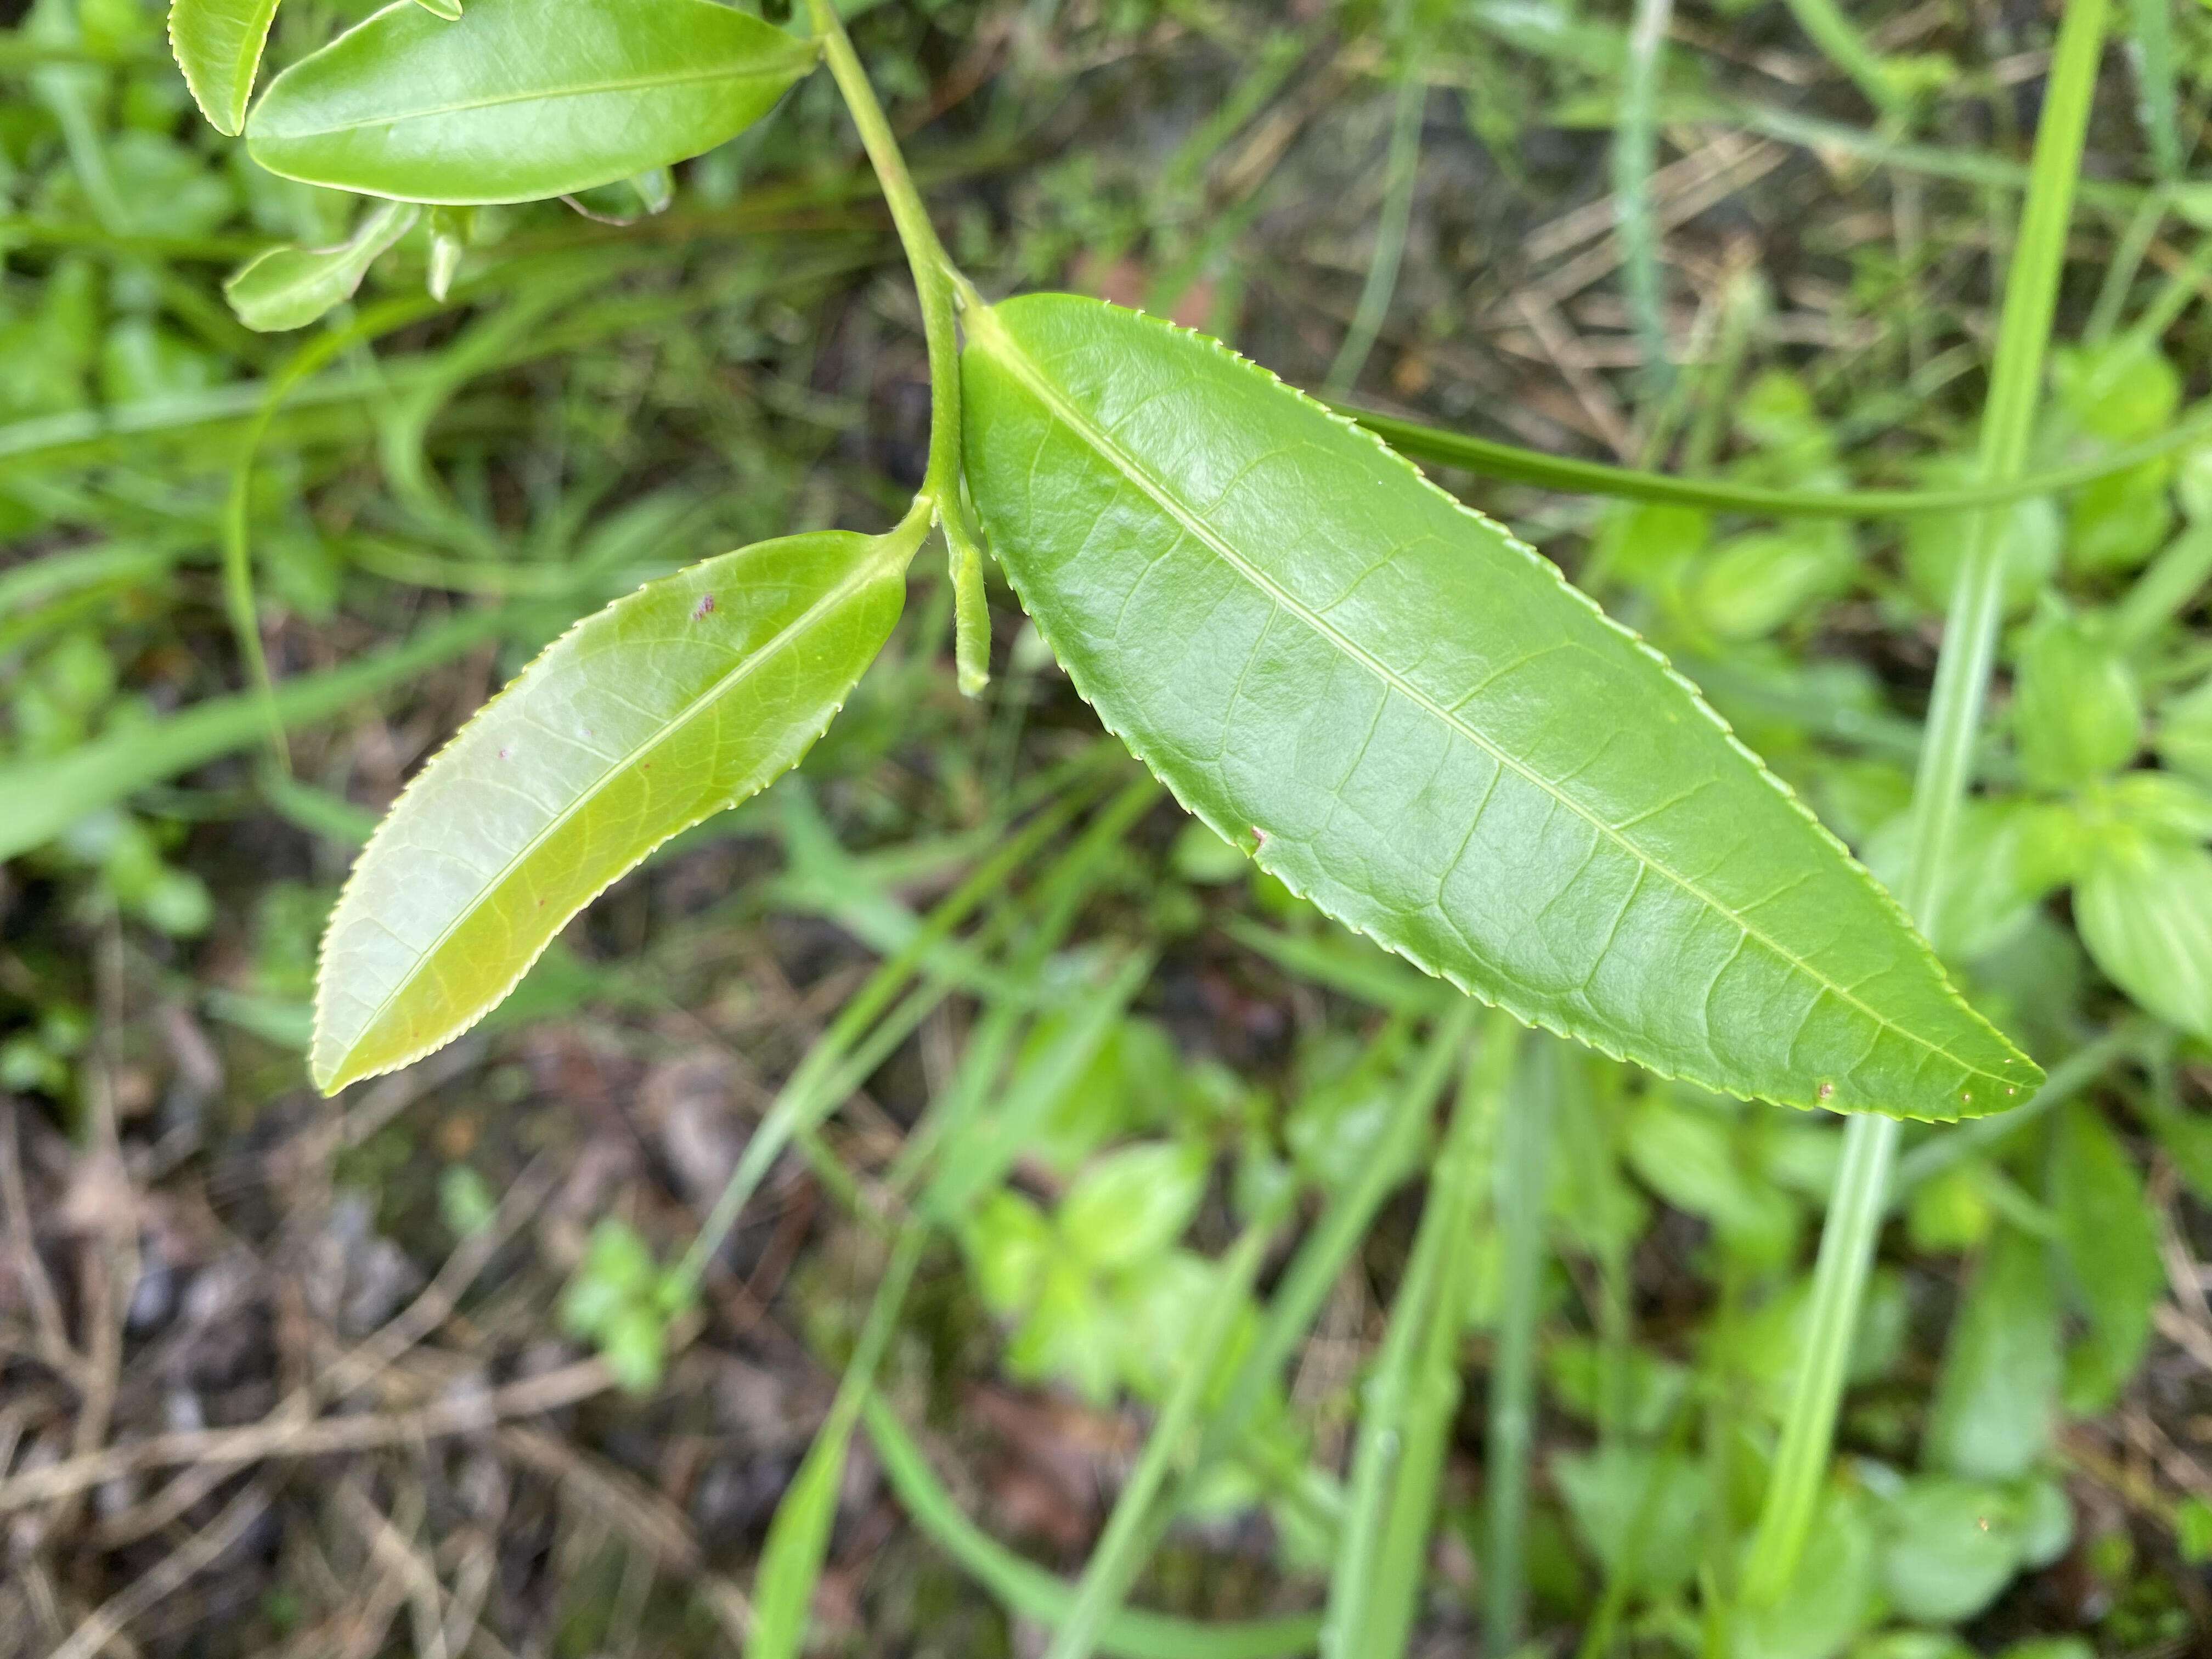healthy: (965, 295, 2043, 1122), (253, 5, 826, 206)
tanju_low: (308, 526, 916, 1093)
